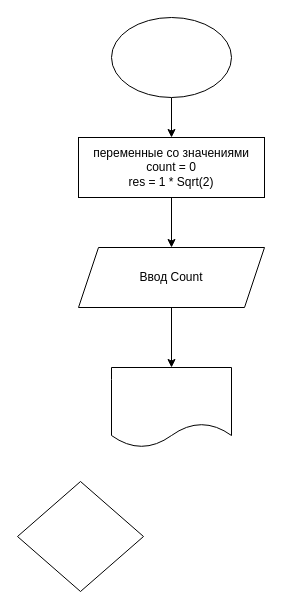
The diagram is 282 pixels wide and 609 high, and some of its shapes have lost their labels. Here are the shapes that lost their labels. From the top down, the centre of each, then its label:
(x=171, y=57): Start End
(x=171, y=407): print(res)
